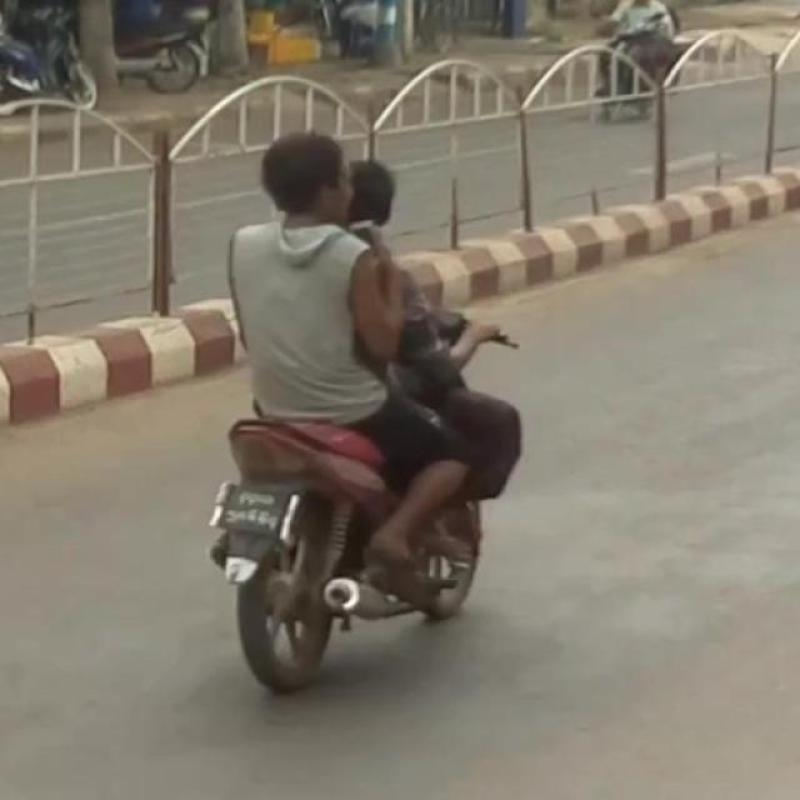nohelmet: (238, 104, 368, 245)
